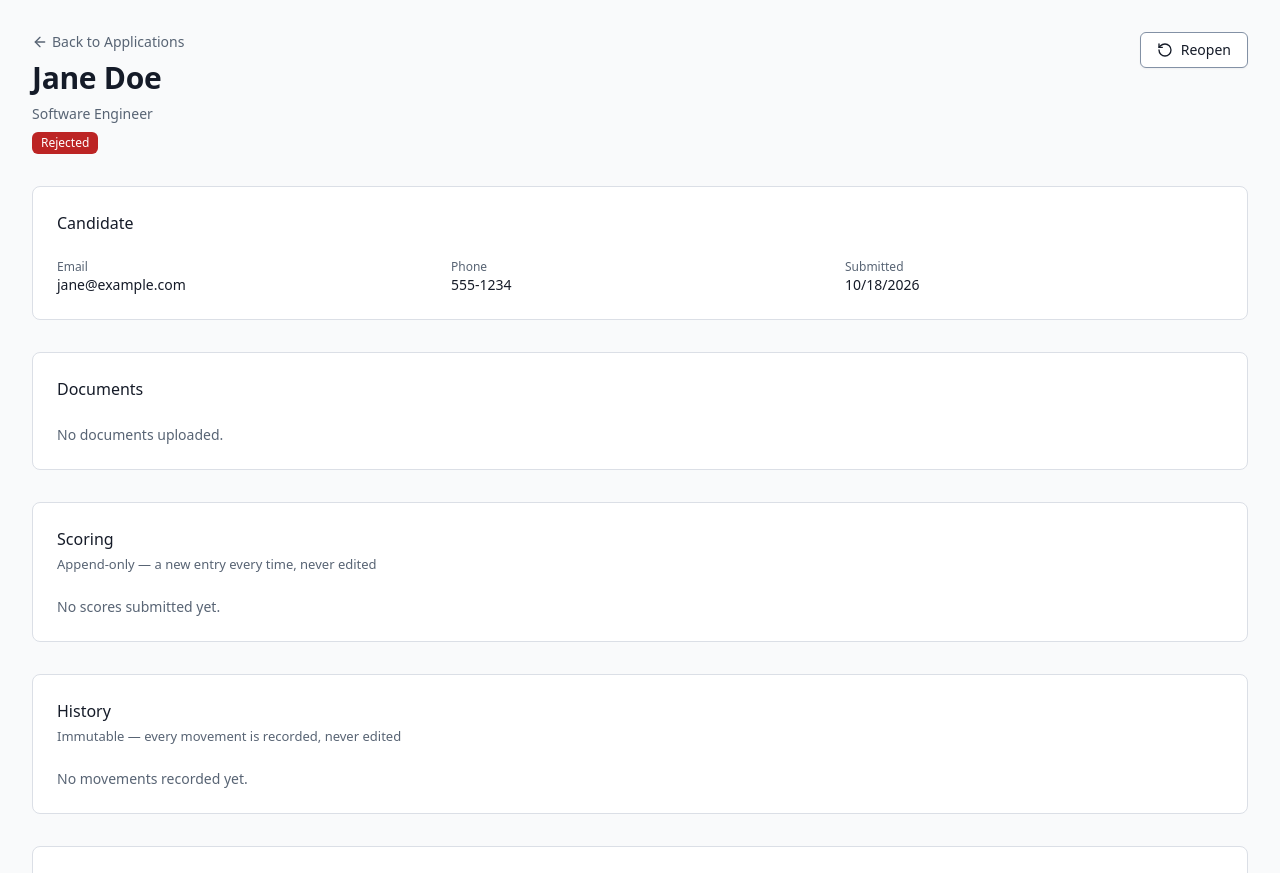
Scenario: Application detail page › reopen confirmation › asks before reopening a terminal application, and Cancel reopens nothing
What coordinates should you click on to do the following:
click the button with test id "button-reopen-application"
I would click on:
 (1194, 50)
Its box is [1140,32,1248,68].
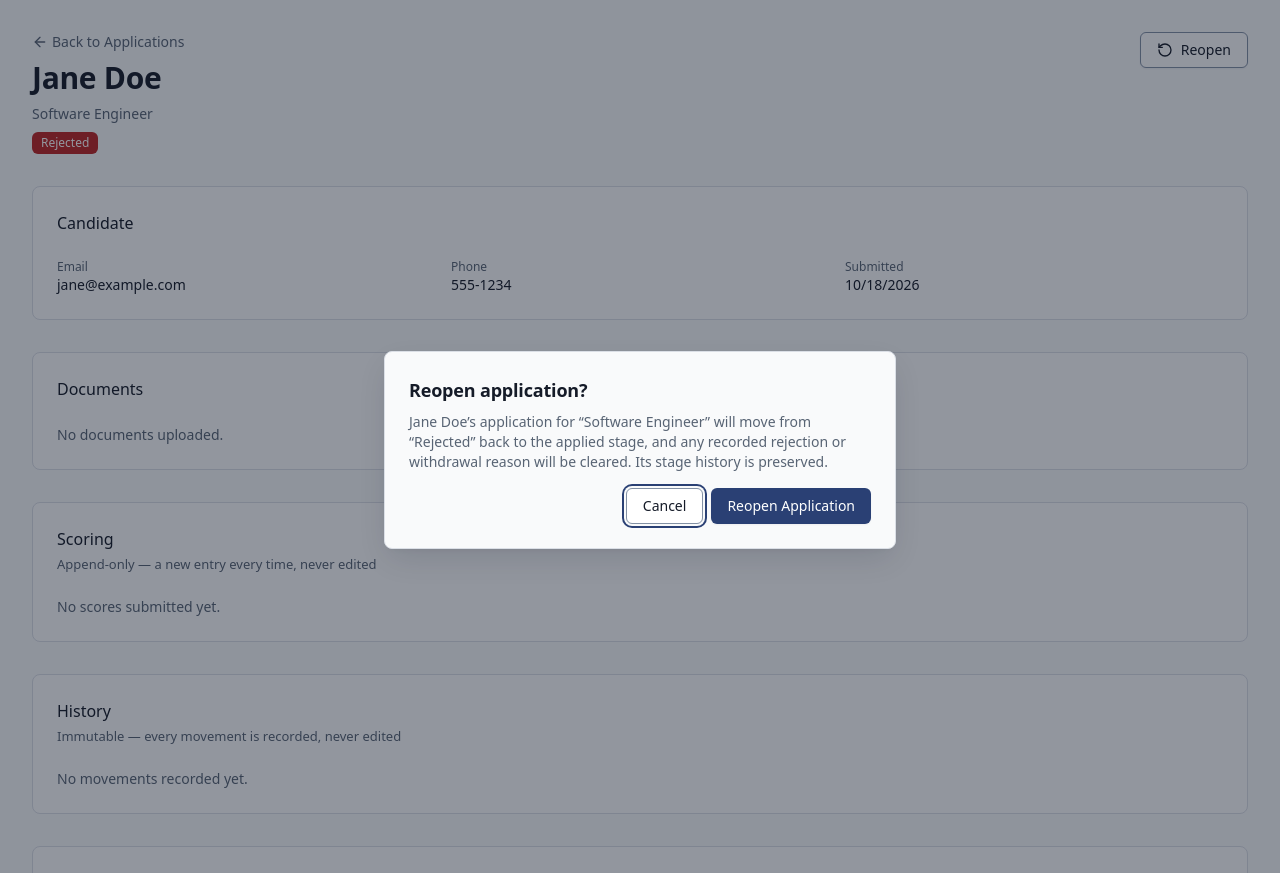
Expected: the dialog with test id "dialog-reopen-application" shows "Reopen application?", [409,378,587,402]
Expected: the dialog with test id "dialog-reopen-application" shows "Jane Doe’s application for “Software Engineer” will move from “Rejected” back to the applied stage", [384,351,896,549]
What coordinates should you click on to do the following:
click the button with test id "dialog-reopen-application-cancel"
I would click on:
 (665, 506)
Its box is [626,488,703,524].
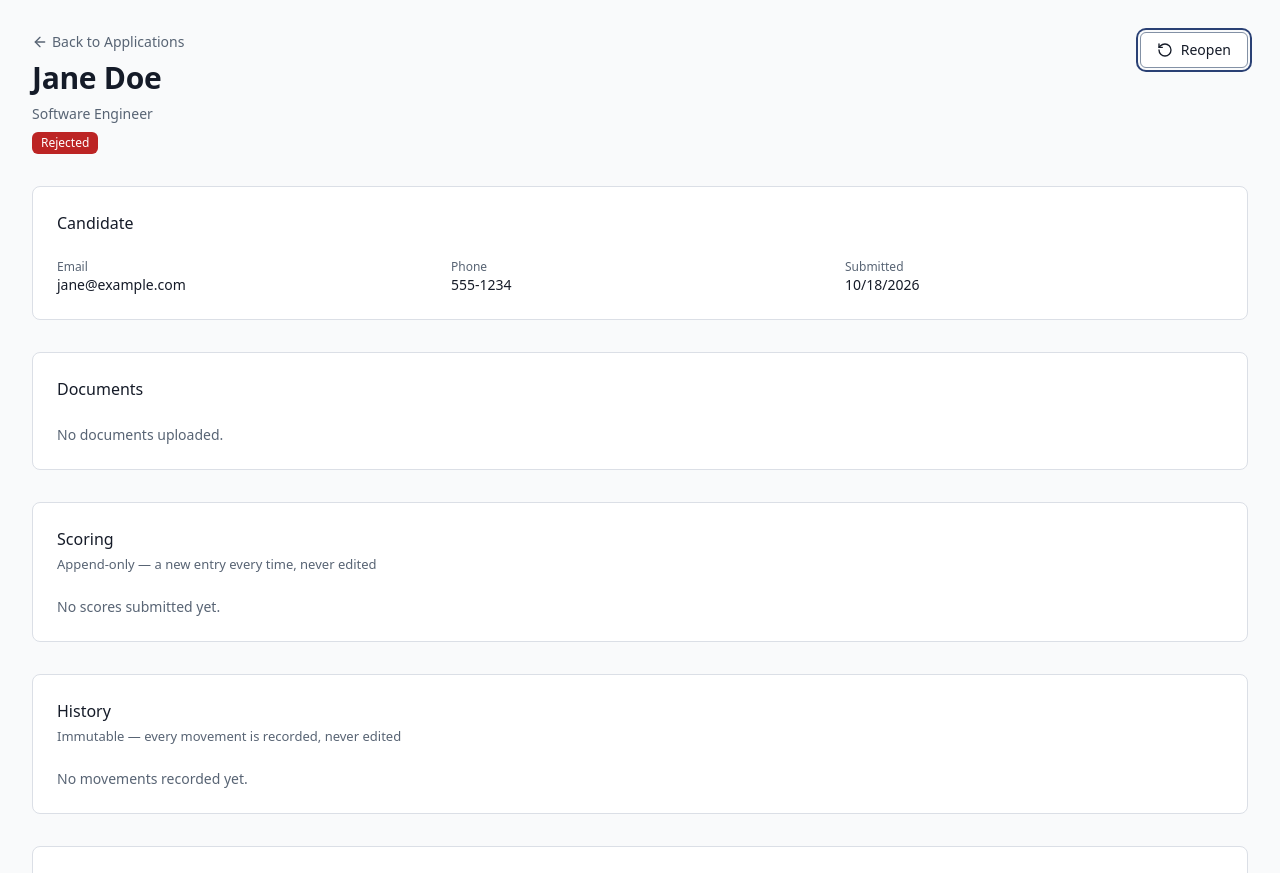
Expected: the dialog with test id "dialog-reopen-application" is gone
